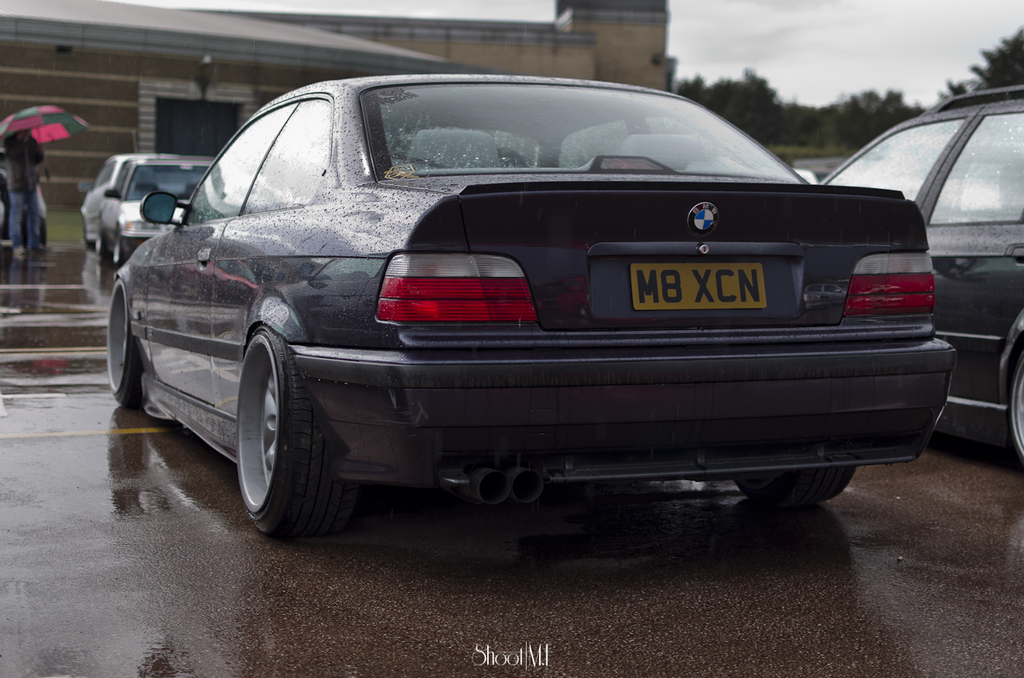license plate: (631, 262, 768, 306)
